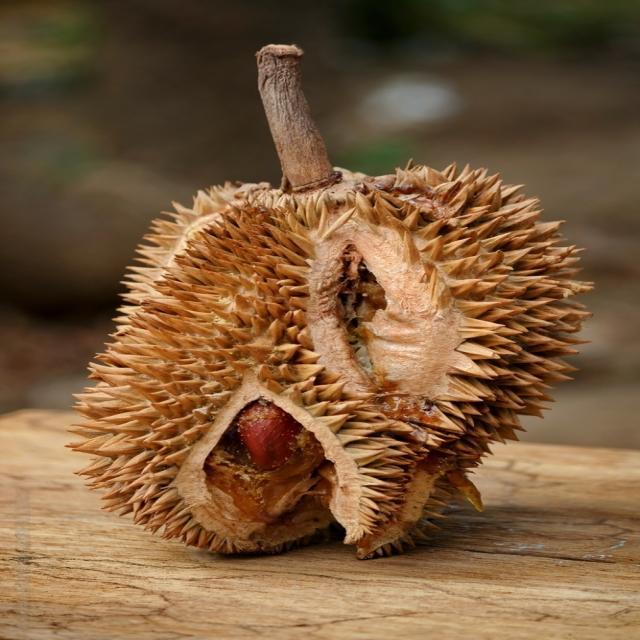defective: (60, 162, 595, 559)
